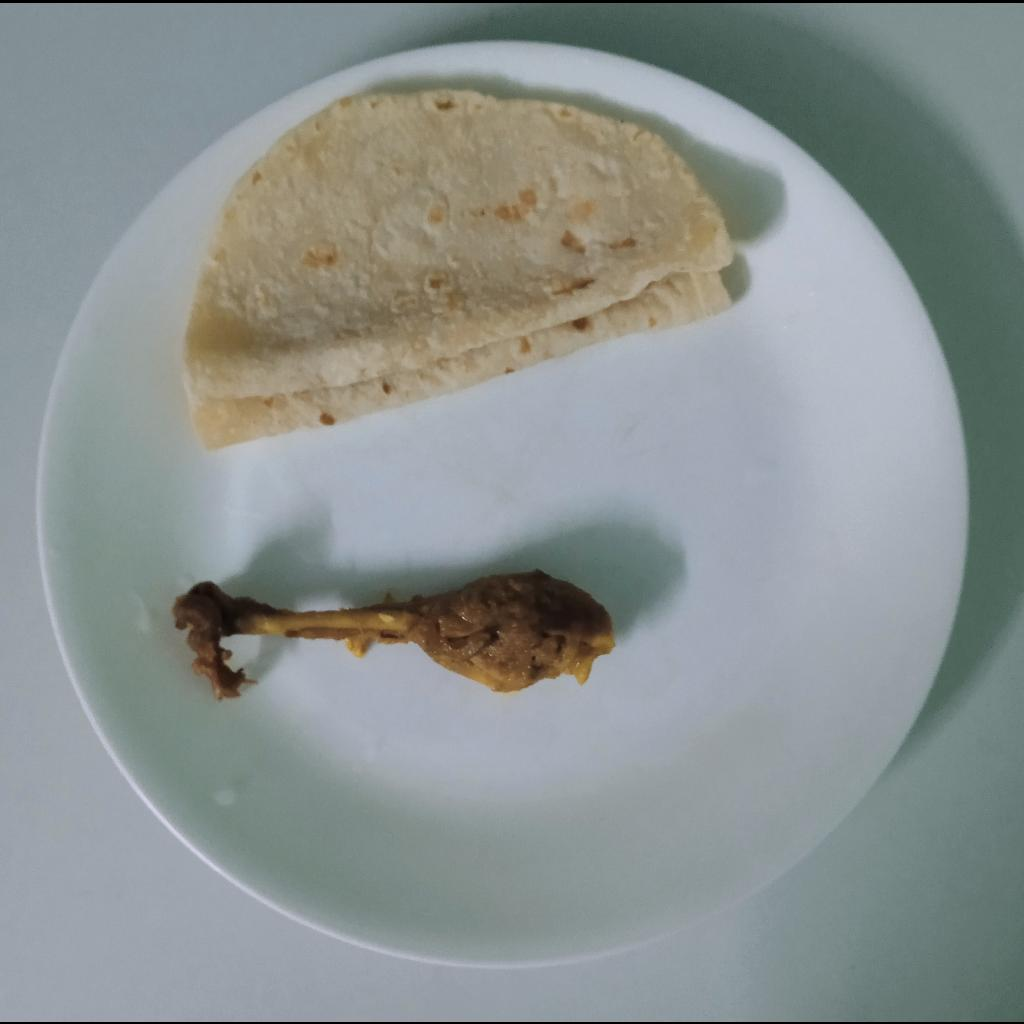chicken: (170, 569, 614, 701)
ruti: (183, 88, 736, 452)
